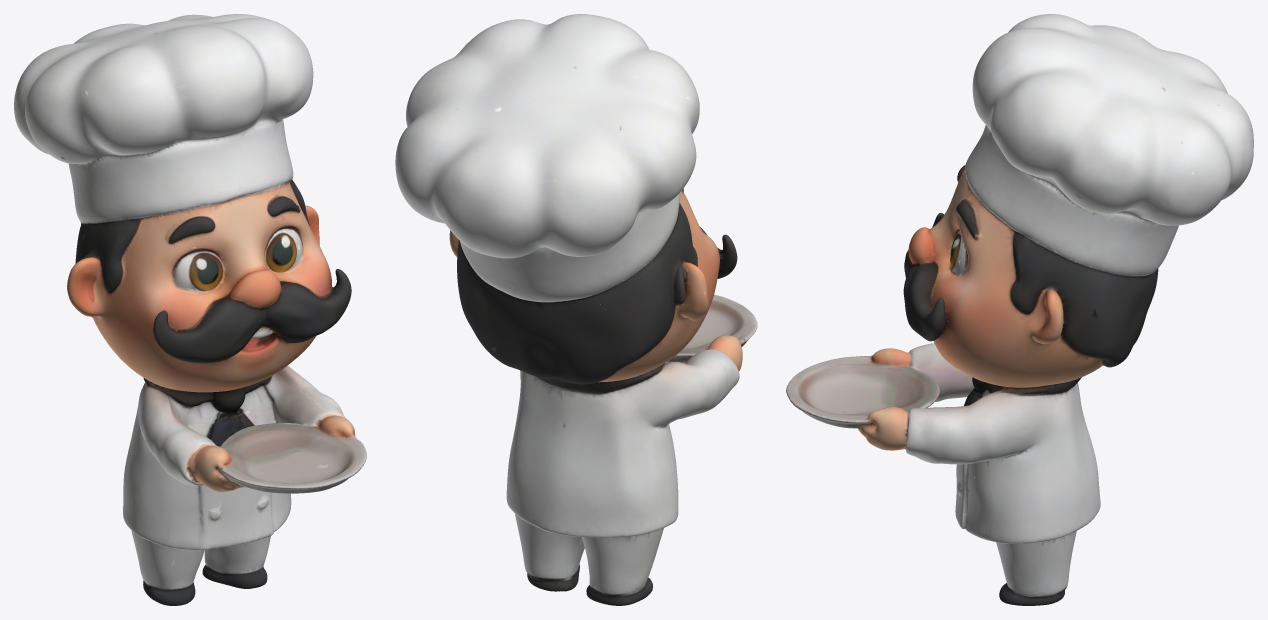
The model's file is chef.glb.
3 views of the same model, side by side, from view 1: azimuth 30°, elevation 25°; view 2: azimuth 150°, elevation 25°; view 3: azimuth 270°, elevation 25° (orthographic). The views are drawn at different scales.
Size of the model in its own units: 1.01 by 2 by 1.56.
1 material, 1 textured.
